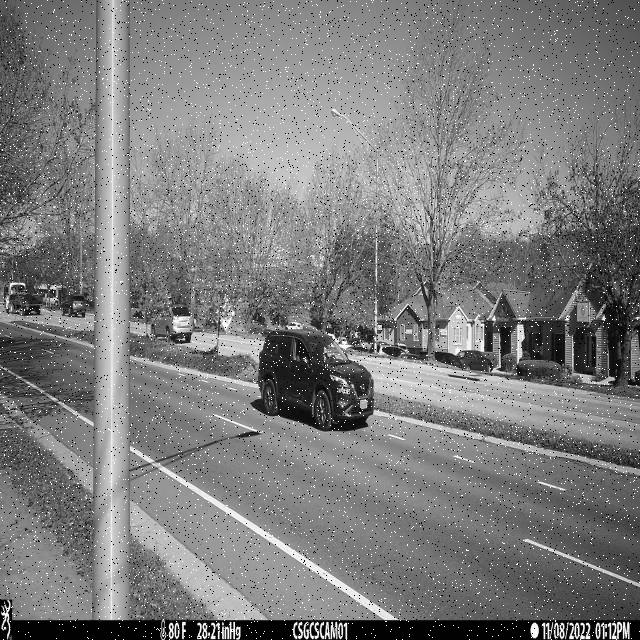SUV: (257, 325, 374, 432)
